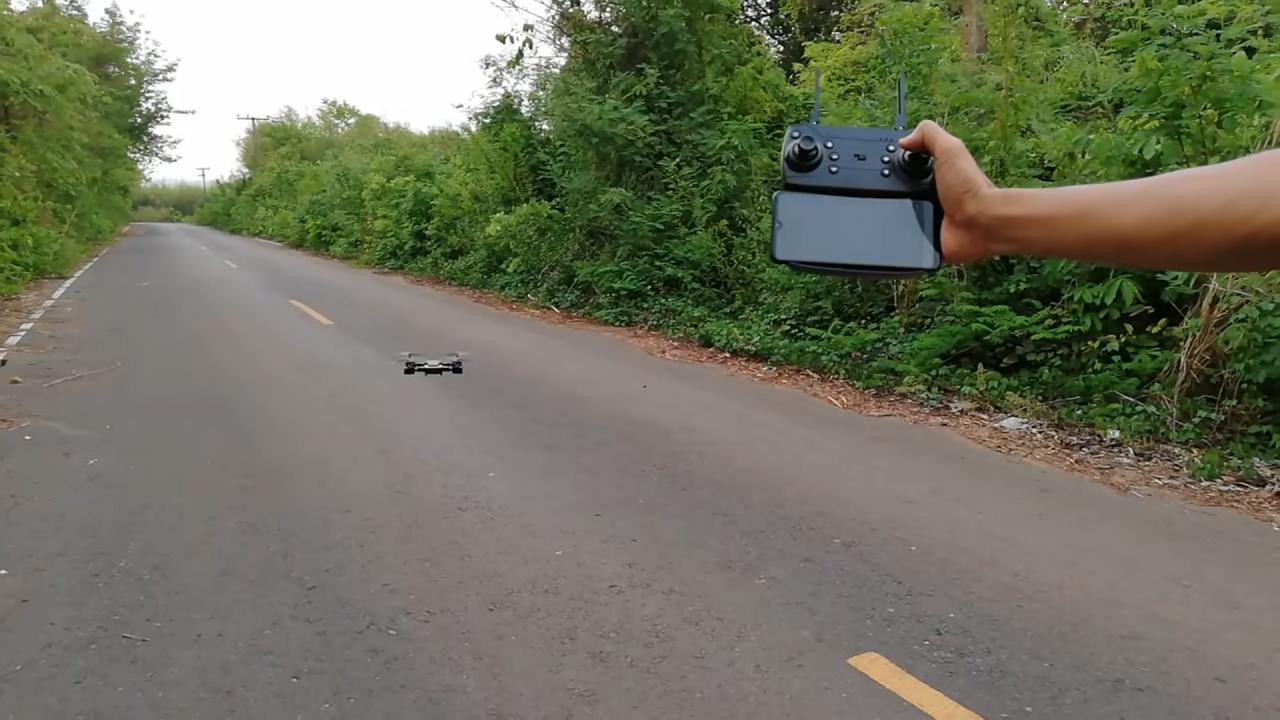Drone: (381, 345, 484, 386)
